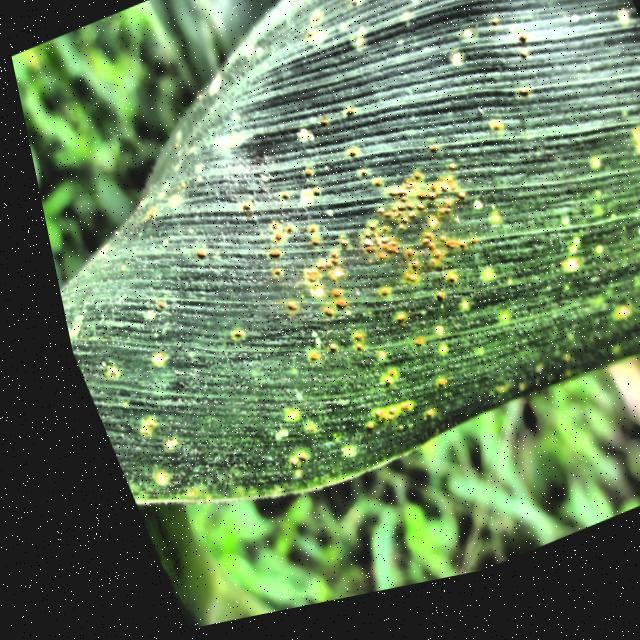common_rust: (56, 0, 640, 497)
